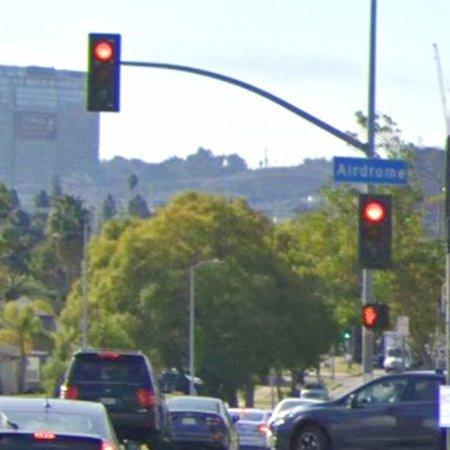traffic lights: (356, 191, 393, 268), (89, 32, 121, 112)
